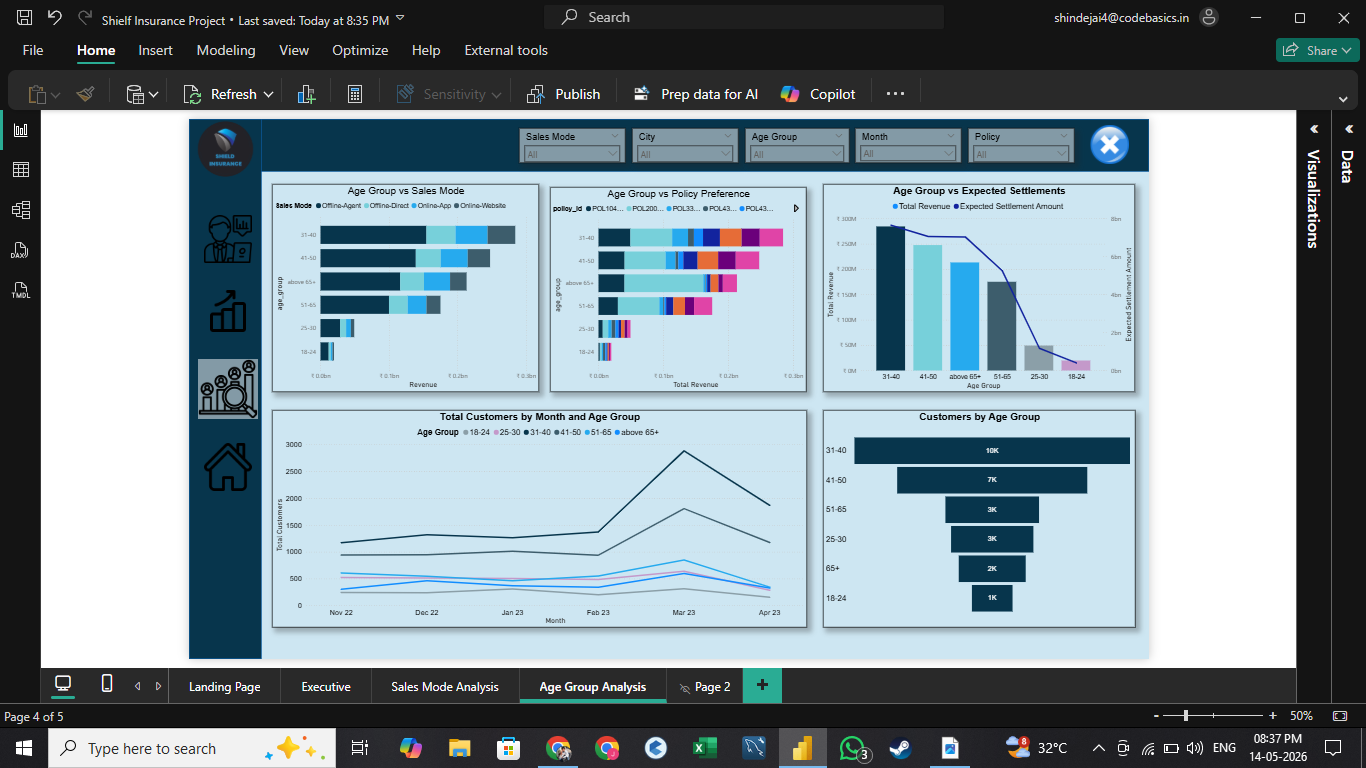

This screenshot's page, from the dashboard's own definition file:
{"tool":"powerbi","page":{"name":"Age Group Analysis","canvas":[1920,1080],"ordinal":3},"visuals":[{"type":"shape","box":[0,0,1920,105],"z":0},{"type":"image","box":[1790,12.5,102.5,77.5],"z":2000},{"type":"shape","box":[0,0,145,1080],"z":4000},{"type":"image","box":[25.5,489.3,96,96],"z":5000},{"type":"image","box":[13.5,638,120,120],"z":6000},{"type":"image","box":[25.5,340.7,96,96],"z":7000},{"type":"lineChart","title":"Total Customers by Month and Age Group","fields":{"Y":["Key Measures.Total Customers"],"Series":["dim_customer.age_group"],"Category":["dim_date.mm_yy","dim_date.date"]},"box":[165,582.5,1070,435],"z":9000},{"type":"funnel","fields":{"Category":["policy customer_base_by_age_group.AGE_GROUP"],"Y":["Max(policy customer_base_by_age_group.CUSTOMERS)"]},"box":[1267.5,582.5,625,435],"z":10000},{"type":"barChart","title":"Age Group vs Sales Mode","fields":{"Category":["dim_customer.age_group"],"Series":["fact_premiums.sales_mode"],"Y":["Key Measures.Total Revenue"]},"box":[166,130,534,416],"z":11000},{"type":"barChart","title":"Age Group vs Policy Preference","fields":{"Category":["dim_customer.age_group"],"Series":["dim_policies.policy_id"],"Y":["Key Measures.Total Revenue"]},"box":[722.5,135,512.5,410],"z":12000},{"type":"lineClusteredColumnComboChart","title":"Age Group vs Expected Settlements","fields":{"Category":["dim_customer.age_group"],"Y":["Key Measures.Total Revenue"],"Y2":["Key Measures.Expected Settlement Amount"]},"box":[1268,130,624,416],"z":13000},{"type":"image","box":[17.5,192,112,96],"z":14000},{"type":"image","box":[0,0,146,120],"z":15000}]}

Visuals, with their boxes on the page's 1920x1080 design canvas (x1, y1, x2, y2). These are canvas units, not pixel positions in the 1366x768 screenshot, which may show the page scaled, cropped or inside an application window:
shape: <bbox>0, 0, 1920, 105</bbox>
image: <bbox>1790, 12, 1892, 90</bbox>
shape: <bbox>0, 0, 145, 1080</bbox>
image: <bbox>26, 489, 122, 585</bbox>
image: <bbox>14, 638, 134, 758</bbox>
image: <bbox>26, 341, 122, 437</bbox>
"Total Customers by Month and Age Group" lineChart: <bbox>165, 582, 1235, 1018</bbox>
funnel - policy customer_base_by_age_group.AGE_GROUP x Max(policy customer_base_by_age_group.CUSTOMERS): <bbox>1268, 582, 1892, 1018</bbox>
"Age Group vs Sales Mode" barChart: <bbox>166, 130, 700, 546</bbox>
"Age Group vs Policy Preference" barChart: <bbox>722, 135, 1235, 545</bbox>
"Age Group vs Expected Settlements" lineClusteredColumnComboChart: <bbox>1268, 130, 1892, 546</bbox>
image: <bbox>18, 192, 130, 288</bbox>
image: <bbox>0, 0, 146, 120</bbox>
